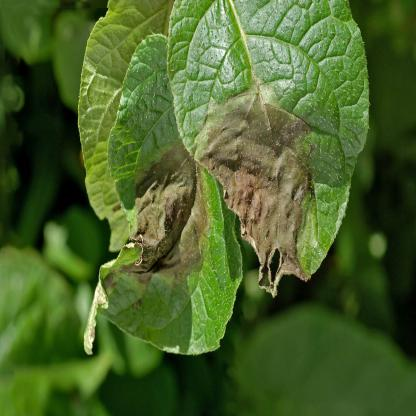potato leaf late blight: (171, 1, 372, 301), (77, 28, 243, 360)
